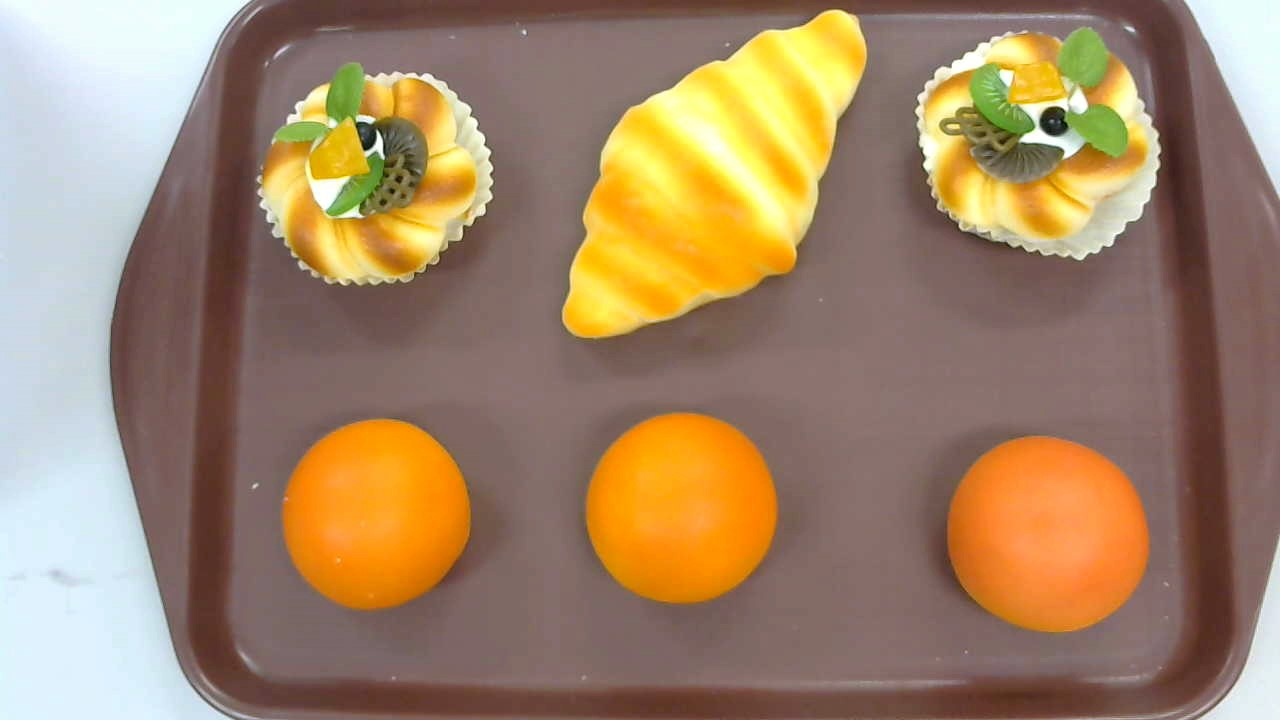bun: (947, 436, 1150, 632), (584, 409, 778, 603), (281, 416, 470, 612)
croissant: (561, 9, 867, 341)
fruit tart: (912, 28, 1162, 263), (256, 61, 495, 289)
